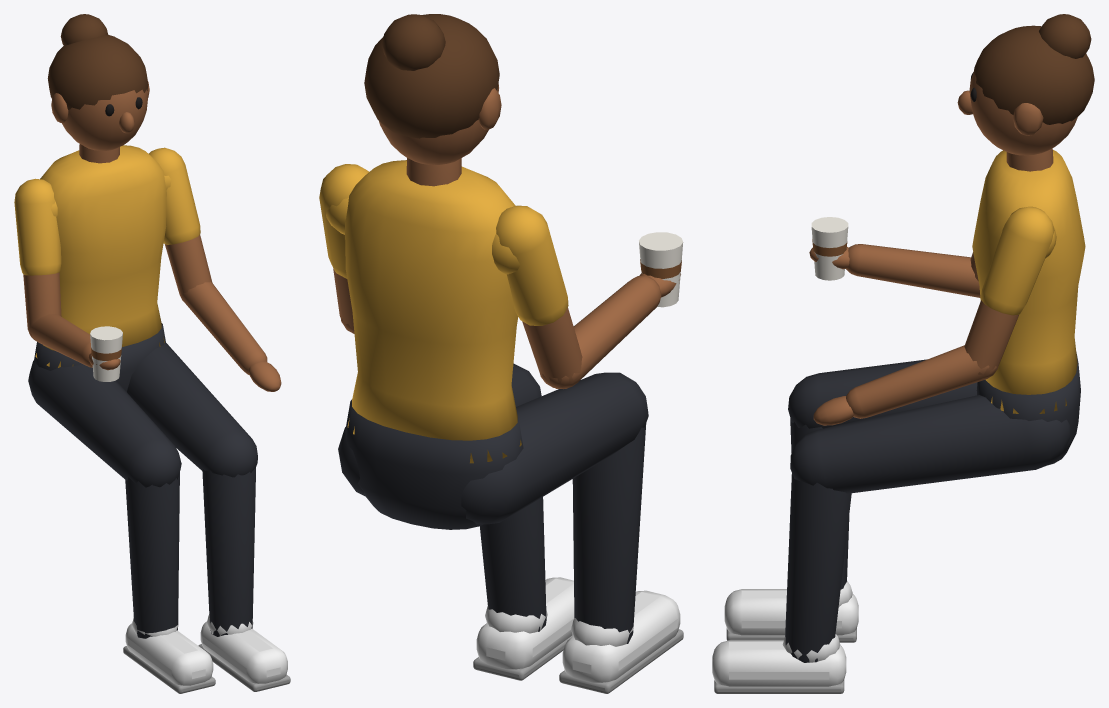
Rendered from sitter_woman.fbx.
The picture shows the model from 3 angles, left to right: view 1: azimuth 30°, elevation 25°; view 2: azimuth 150°, elevation 25°; view 3: azimuth 270°, elevation 25°; orthographic projection. The views are drawn at different scales.
Visible parts, largest first — view 1: sitter_woman; view 2: sitter_woman; view 3: sitter_woman.
Part boxes in pixels (x1=…): sitter_woman: x1=14, y1=14, x2=290, y2=693; sitter_woman: x1=319, y1=14, x2=683, y2=693; sitter_woman: x1=712, y1=14, x2=1094, y2=693.
Bounding box in the file's own units: 0.4994 × 1.44 × 0.7704.
